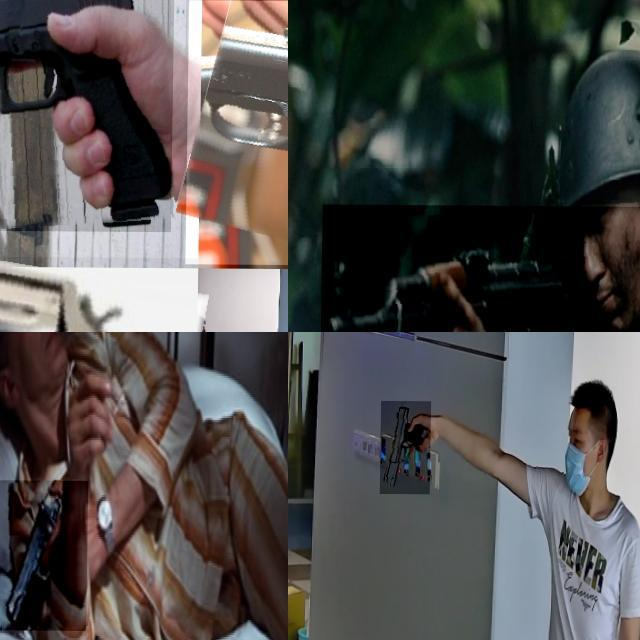gun-knife-thesis - v11 Yolov5 augmented: (319, 204, 640, 332), (0, 0, 174, 231), (186, 0, 288, 265), (0, 479, 89, 630), (381, 401, 432, 494)
